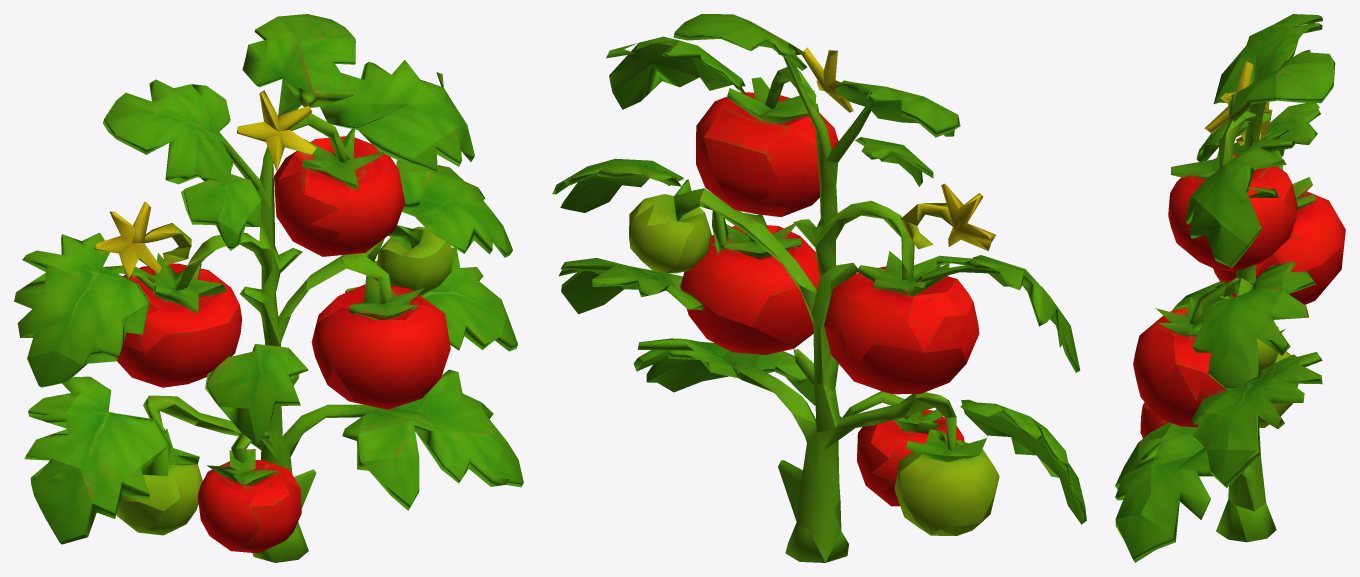
File: tomato.glb
3 views of the same model, side by side, from view 1: azimuth 30°, elevation 25°; view 2: azimuth 150°, elevation 25°; view 3: azimuth 270°, elevation 25° (orthographic). The views are drawn at different scales.
Size of the model in its own units: 1 by 1 by 0.4268.
Materials: 1 (1 with a texture image).
